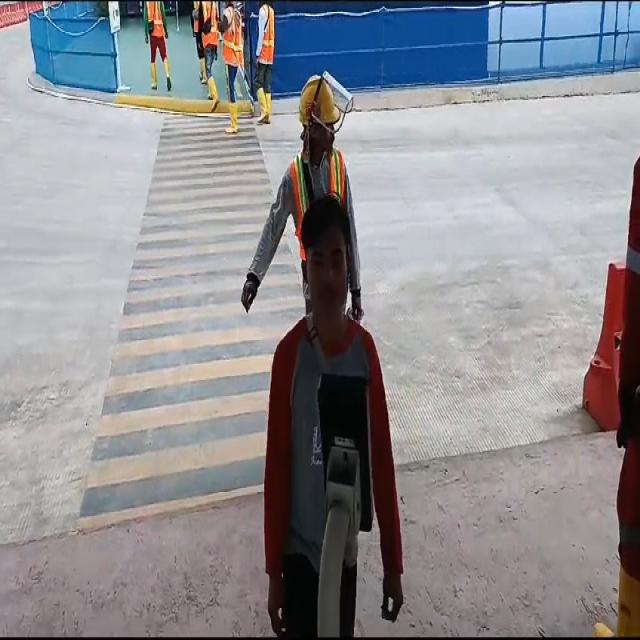gloves: (237, 274, 263, 314), (351, 288, 369, 326)
helmet: (296, 80, 346, 132)
safety_vest: (292, 148, 350, 202), (223, 14, 247, 58), (260, 9, 278, 60), (202, 2, 218, 50), (150, 0, 161, 38)
